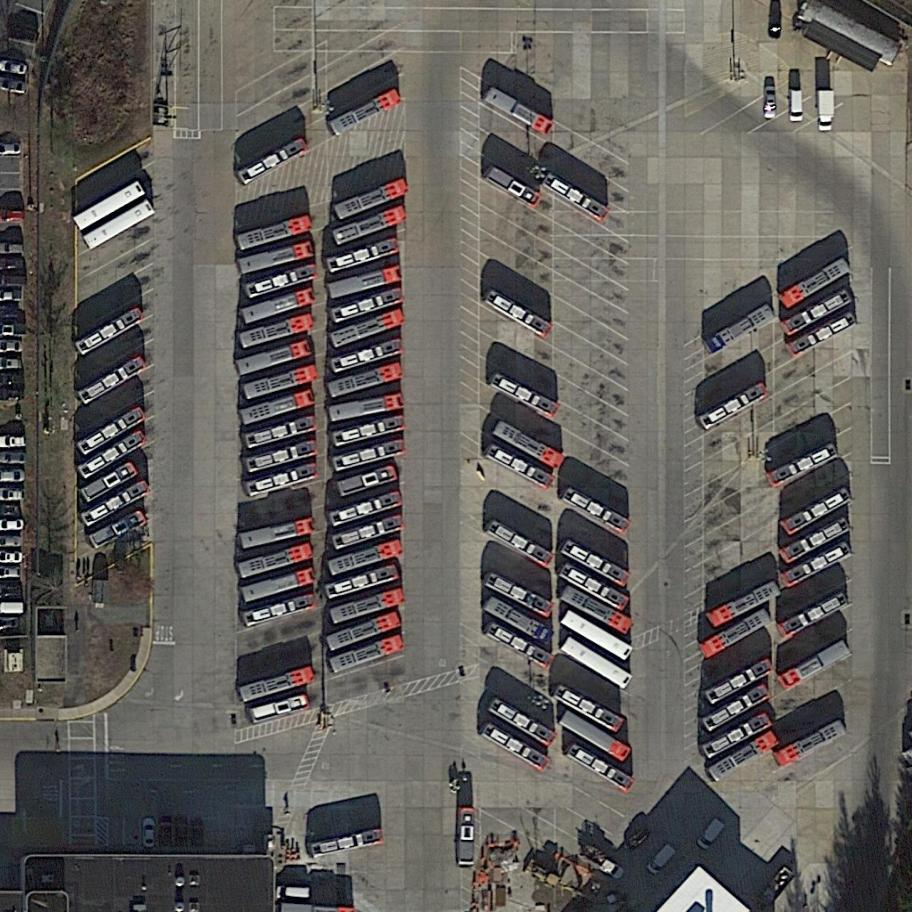large-vehicle: (700, 652, 780, 710), (777, 484, 856, 542), (777, 636, 853, 695), (479, 85, 556, 143), (555, 535, 633, 592), (703, 576, 783, 631), (779, 255, 854, 313), (559, 609, 635, 666), (556, 559, 633, 615), (477, 719, 552, 776), (72, 305, 147, 362), (490, 419, 567, 474), (556, 482, 633, 537), (552, 680, 629, 735), (707, 730, 784, 785), (332, 174, 415, 225), (779, 284, 854, 340), (699, 680, 774, 736), (328, 88, 405, 142), (234, 135, 312, 188), (776, 587, 854, 640), (81, 199, 157, 253), (559, 637, 635, 691), (558, 710, 634, 764), (483, 519, 556, 575), (486, 695, 559, 751), (778, 511, 851, 567), (700, 605, 773, 661), (480, 619, 558, 671), (703, 304, 778, 358), (695, 382, 771, 435), (71, 179, 147, 232), (74, 403, 147, 458), (480, 288, 554, 342), (772, 718, 848, 770), (480, 570, 557, 621), (482, 441, 556, 494), (779, 539, 854, 591), (784, 310, 860, 361), (75, 427, 148, 480), (79, 477, 152, 530), (486, 368, 561, 419), (75, 354, 147, 407), (564, 741, 636, 793), (559, 587, 636, 635), (480, 596, 551, 648), (765, 440, 840, 489), (702, 710, 774, 761), (323, 611, 406, 655), (234, 210, 317, 254), (328, 336, 408, 380), (332, 206, 410, 251), (543, 171, 613, 221), (236, 537, 317, 580), (328, 284, 408, 327), (327, 307, 405, 351), (479, 159, 545, 211), (238, 564, 319, 606), (328, 634, 407, 677), (327, 486, 406, 529), (331, 586, 409, 628), (326, 539, 405, 580), (234, 336, 313, 377), (237, 386, 316, 427), (242, 362, 320, 403), (324, 236, 405, 275), (325, 362, 405, 401), (238, 311, 317, 350), (239, 663, 314, 704), (323, 563, 401, 602), (325, 264, 405, 302), (239, 289, 319, 327), (331, 515, 408, 554), (78, 456, 138, 506), (234, 239, 315, 276), (332, 439, 410, 477), (244, 439, 324, 476), (237, 517, 319, 553), (243, 414, 320, 452), (242, 463, 319, 501), (243, 263, 322, 300), (242, 592, 320, 629), (330, 415, 408, 451), (306, 826, 385, 859), (89, 509, 147, 551), (328, 394, 407, 424), (337, 465, 399, 499), (249, 694, 310, 725), (456, 806, 477, 867), (695, 815, 729, 852), (645, 842, 678, 877), (275, 885, 312, 901)
small-vehicle: (582, 845, 630, 884), (815, 90, 836, 133), (0, 322, 29, 340), (0, 77, 29, 95), (789, 88, 804, 121), (762, 85, 776, 120), (143, 817, 156, 851), (160, 816, 174, 847), (174, 876, 186, 911), (0, 338, 26, 354), (1, 486, 25, 502), (0, 517, 24, 533), (1, 469, 26, 484), (0, 550, 25, 565), (0, 388, 25, 403), (0, 435, 26, 449), (0, 257, 24, 272), (0, 241, 24, 256), (193, 822, 206, 849), (175, 816, 187, 845), (0, 356, 23, 371), (0, 535, 24, 549), (0, 289, 23, 303), (1, 503, 22, 517), (0, 141, 21, 155), (0, 210, 24, 222), (1, 566, 21, 580), (1, 373, 25, 384), (0, 617, 19, 629)
